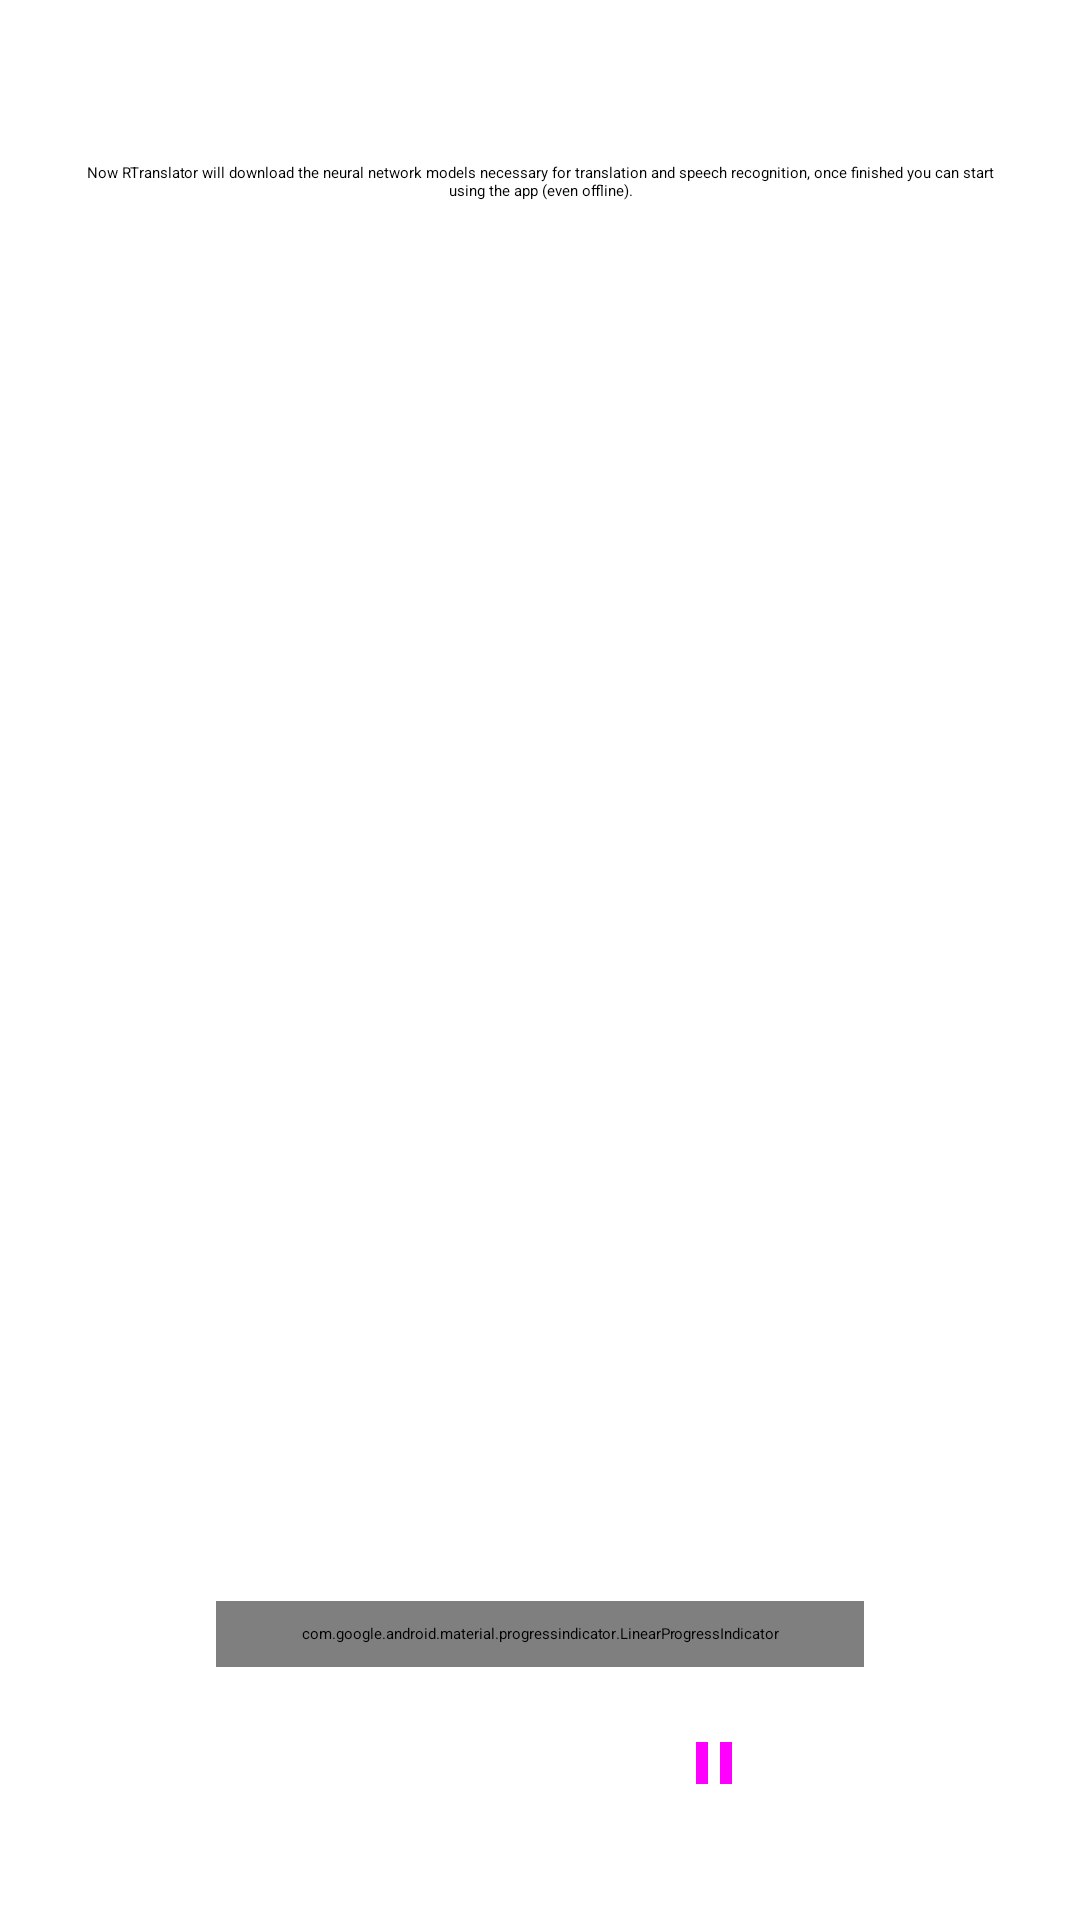

Named icons in this screenshot (1080x1920) and their bounding boxes, (x1, y1, x2, y2):
Pause: (696, 1742, 732, 1784)
